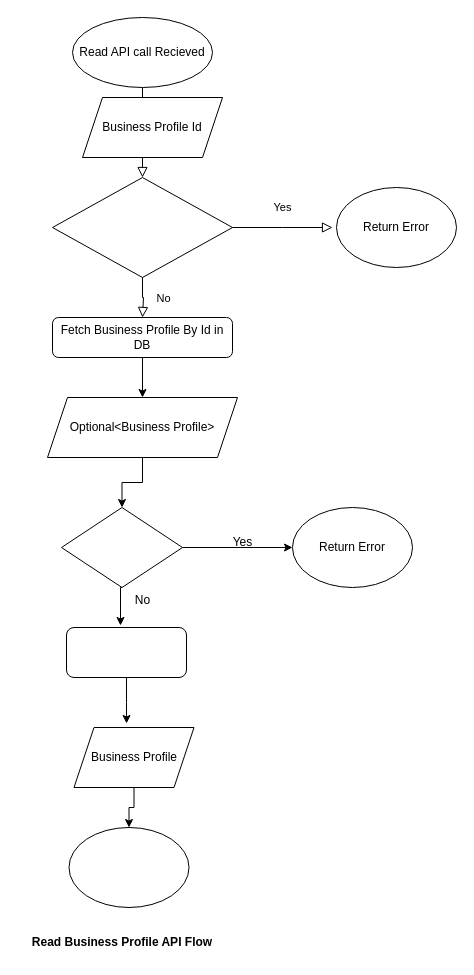
Some shapes in this 474 by 975 pixel diagram are drawn without their labels. The shapes that lost their labels are listed below. From the top down, each one's box as (x1, y1, x2, y2) in pixels, then its label:
(52, 176, 232, 278): Business Profile Id is Blank
(60, 506, 182, 588): IsEmpty
(66, 626, 186, 678): Get Business Profile
(68, 826, 189, 908): Return Business Profile
